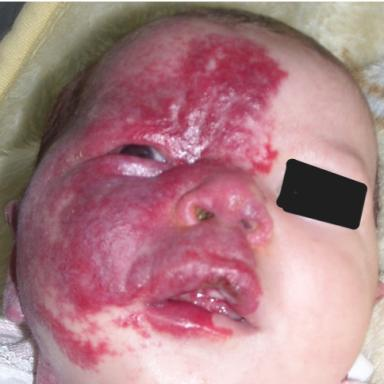Hemangiome: (17, 20, 285, 366)
